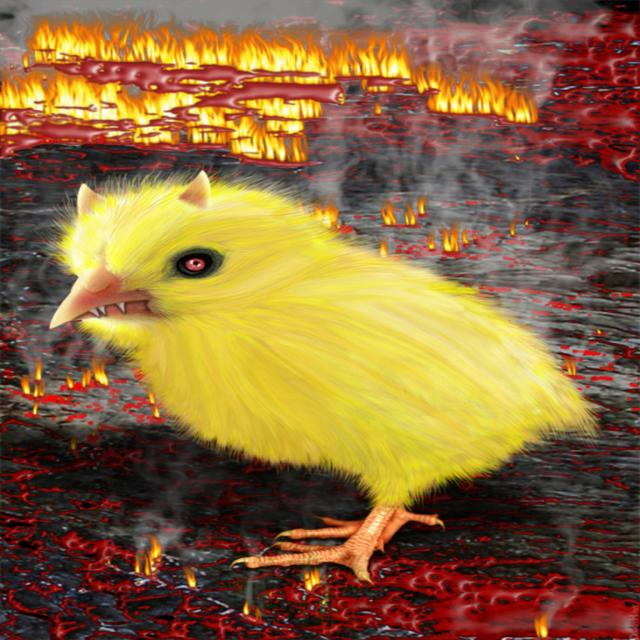Chicken: (41, 168, 567, 575)
